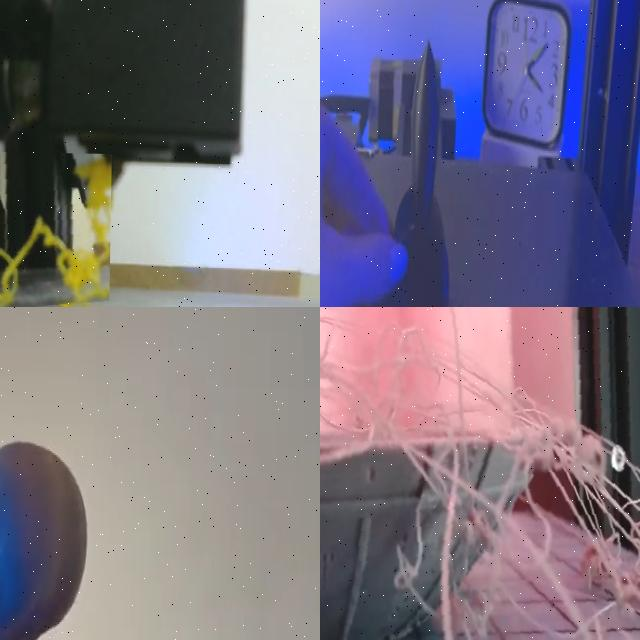spaghetti: (320, 307, 640, 640), (0, 165, 111, 307)
